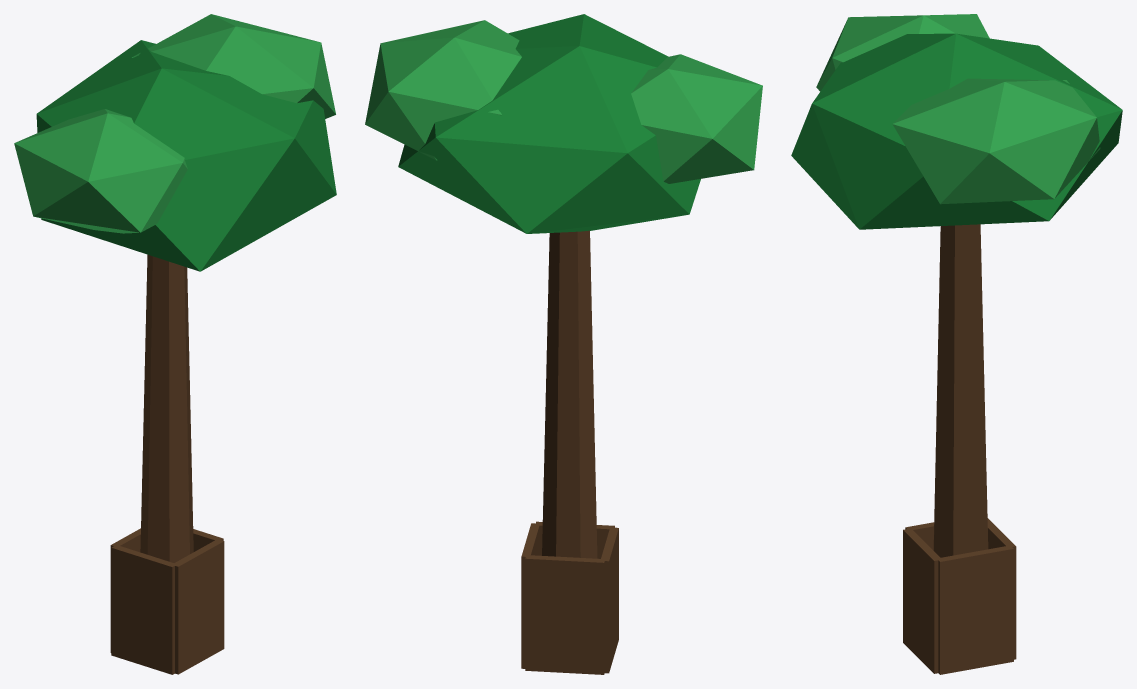
File: jungle_tree.glb
3 views of the same model, side by side, from view 1: azimuth 30°, elevation 25°; view 2: azimuth 150°, elevation 25°; view 3: azimuth 270°, elevation 25° (orthographic). The views are drawn at different scales.
Parts seen in each view (by area): view 1: jungle_tree; view 2: jungle_tree; view 3: jungle_tree.
Boxes of the visible parts, x1,y1,x2,y2 form: jungle_tree: (14,14,336,674); jungle_tree: (365,14,762,674); jungle_tree: (791,14,1122,674).
Size of the model in its own units: 4.4 by 7.62 by 3.72.
